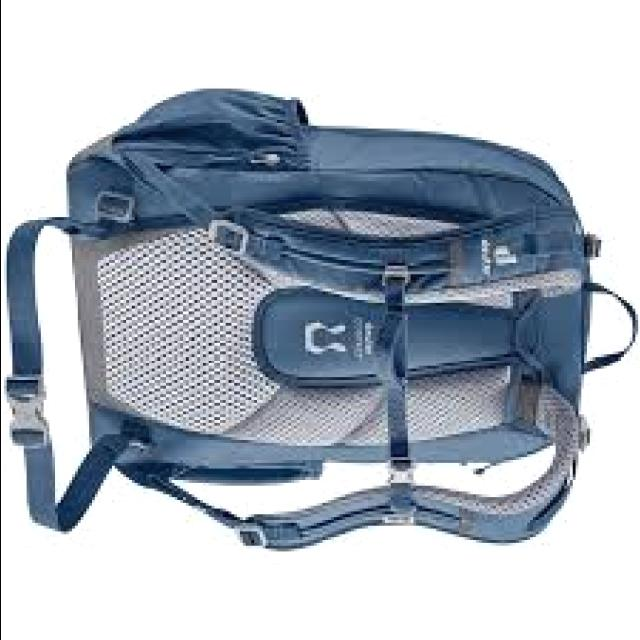backpack: (7, 86, 640, 552)
